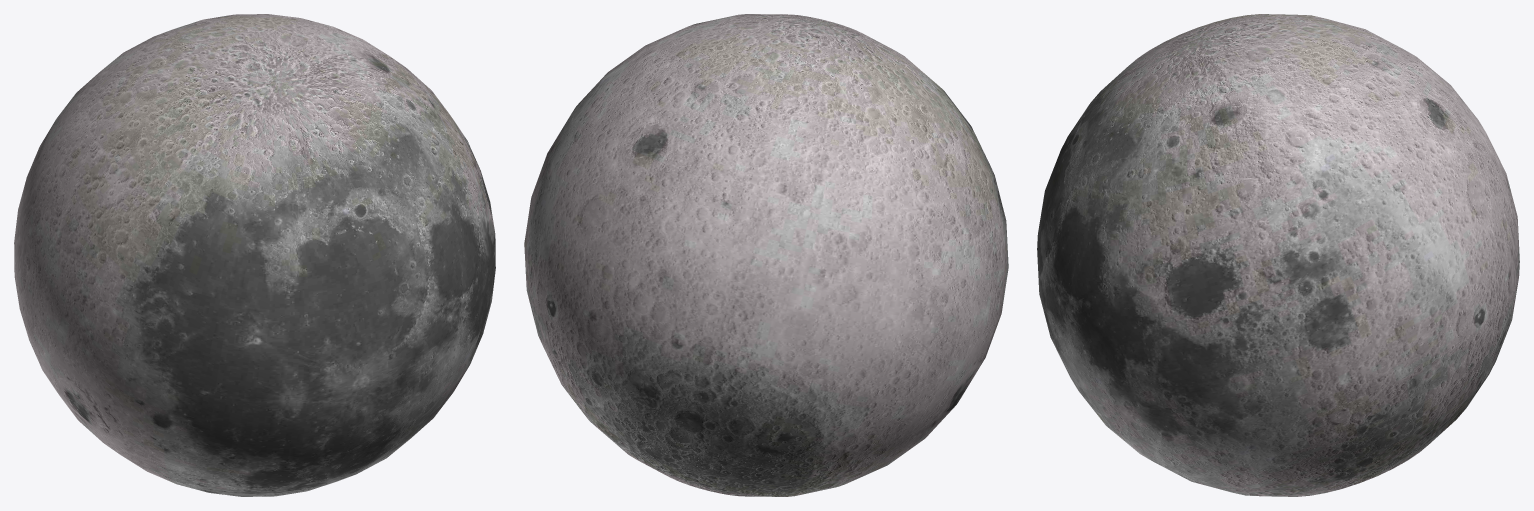
The model's file is Moon.glb.
3 views of the same model, side by side, from view 1: azimuth 30°, elevation 25°; view 2: azimuth 150°, elevation 25°; view 3: azimuth 270°, elevation 25° (orthographic).
Visible parts, largest first — view 1: Moon; view 2: Moon; view 3: Moon.
Boxes of the visible parts, left/top/right/bottom form: Moon: left=14, top=14, right=495, bottom=496; Moon: left=524, top=14, right=1008, bottom=496; Moon: left=1037, top=14, right=1519, bottom=496.
Bounding box in the file's own units: 0.7428 × 0.7478 × 0.7454.
Materials: 1 (1 with a texture image).
